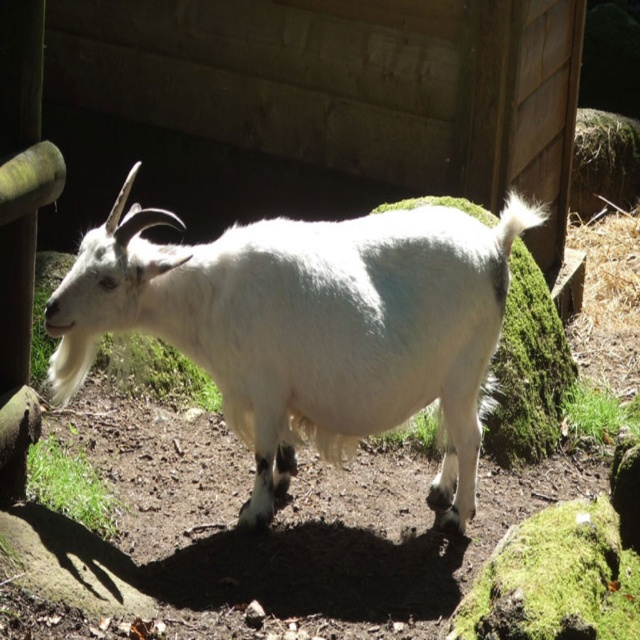Goat: (43, 160, 548, 538)
